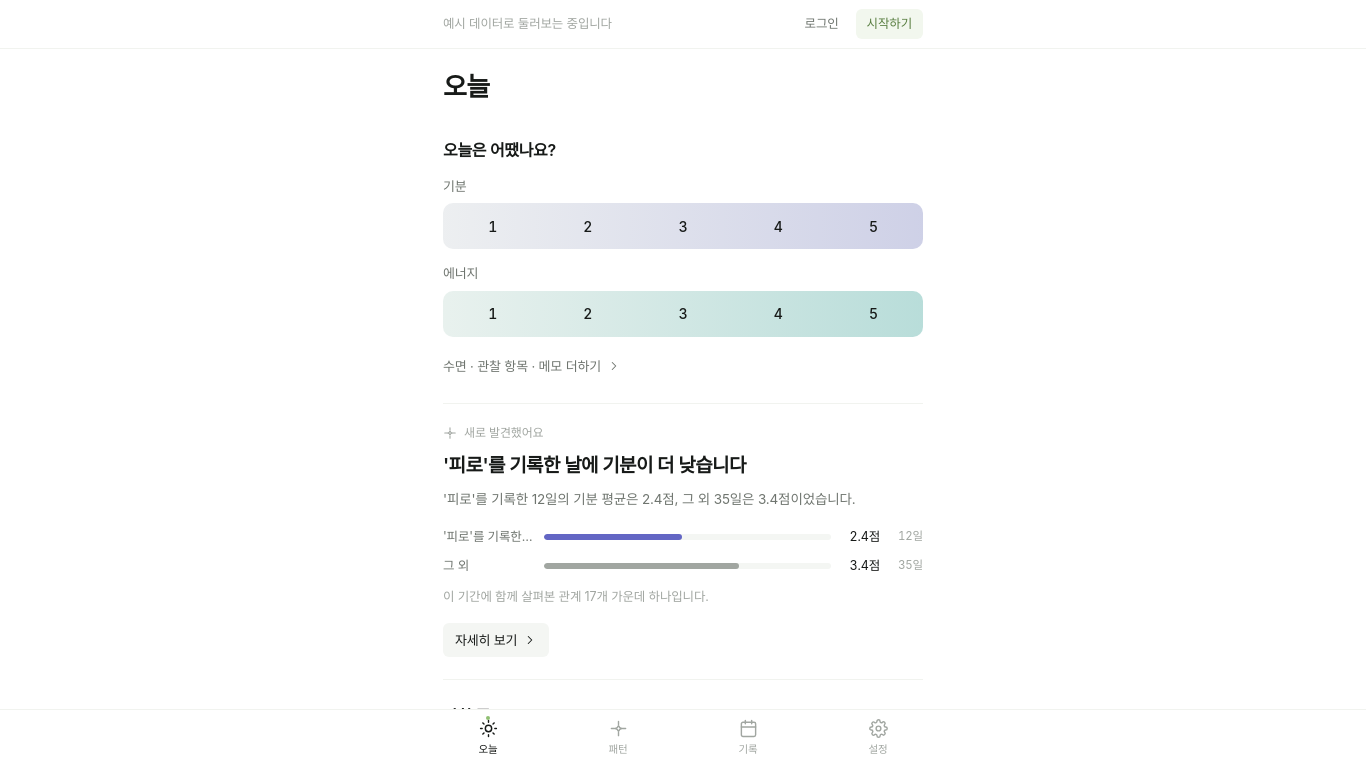
Scenario: 로그인 전 첫 화면 › 하단 내비로 다른 화면도 둘러볼 수 있습니다
Expected: the heading "오늘" is shown, top-left (443, 71), bottom-right (489, 104)
Click the button "패턴": (618, 739) top-left (553, 710), bottom-right (683, 767)
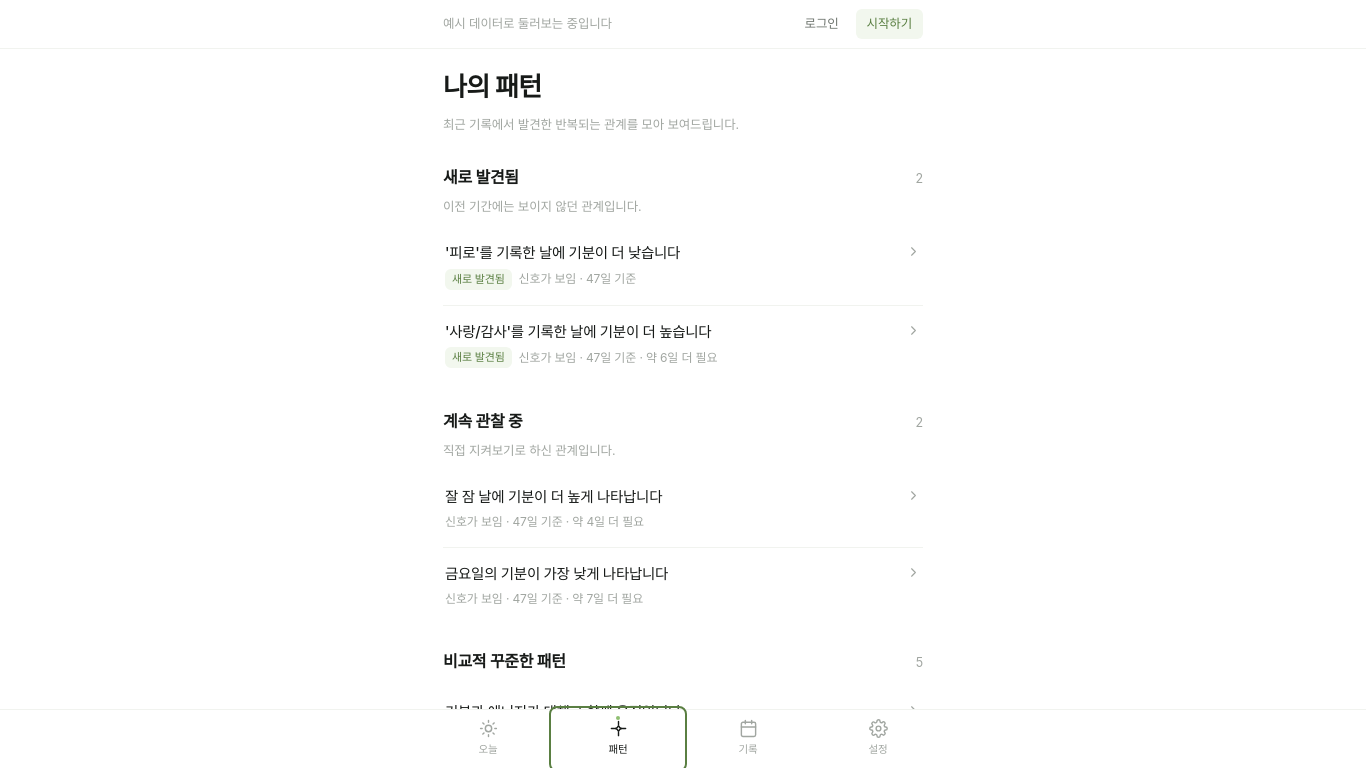
Now the heading "나의 패턴" is shown, box top-left (443, 71), bottom-right (541, 104)
Click the button "기록": (748, 739) top-left (683, 710), bottom-right (813, 767)
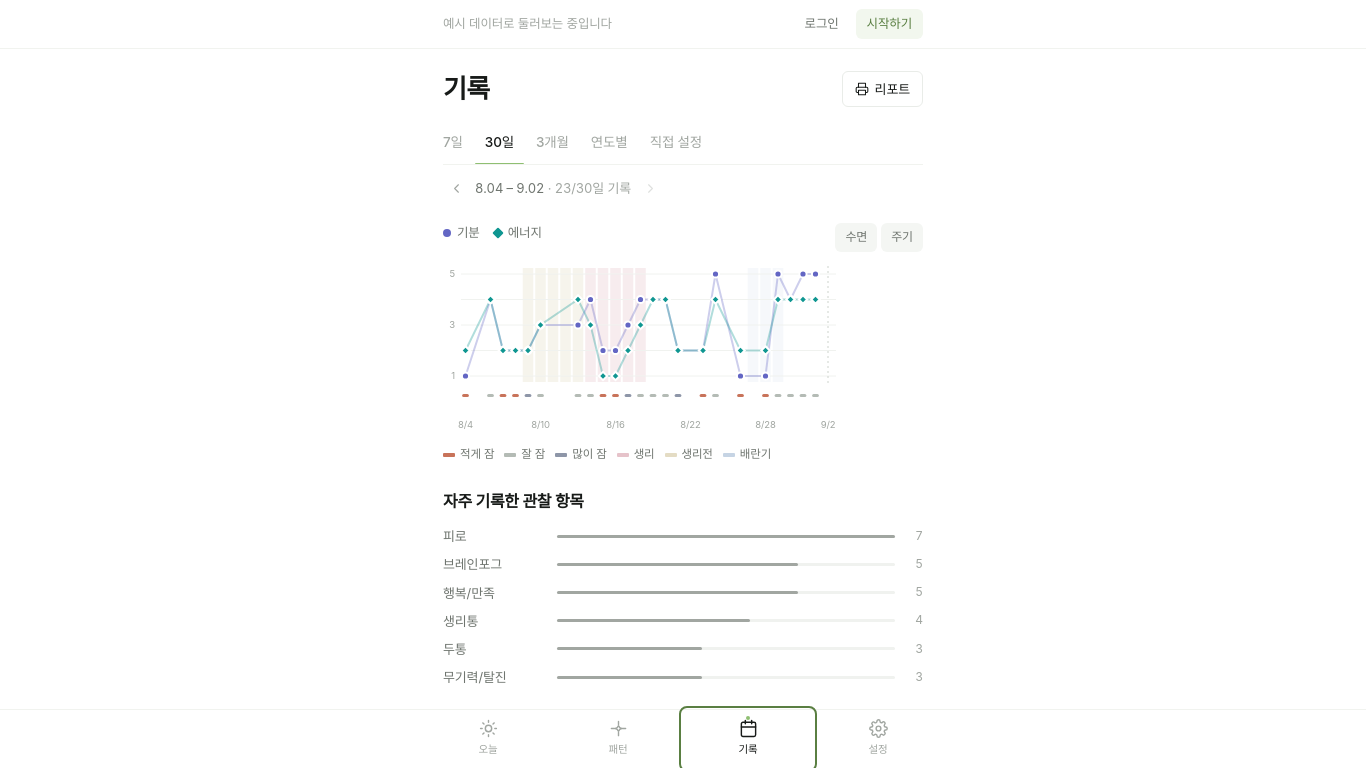
Now the heading "기록" is shown, box top-left (443, 73), bottom-right (489, 105)
Now the picture is shown, box top-left (443, 264), bottom-right (836, 434)
